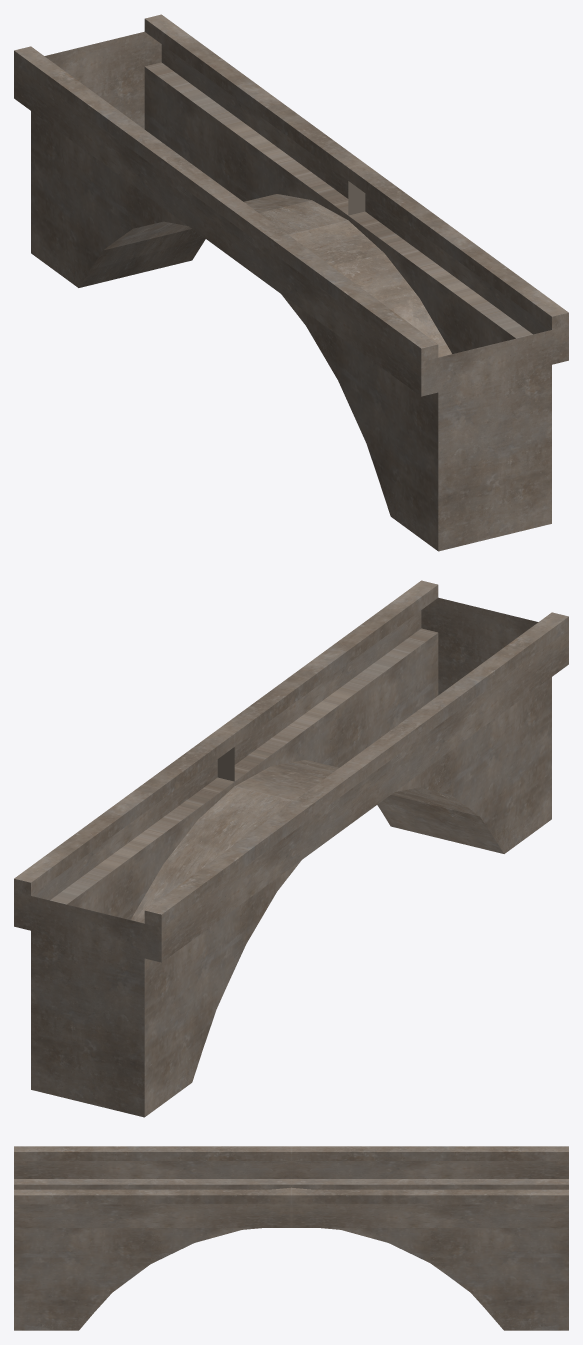
The model's file is Bridge_Base.fbx.
3 views of the same model, one above another, from view 1: azimuth 30°, elevation 25°; view 2: azimuth 150°, elevation 25°; view 3: azimuth 270°, elevation 25° (orthographic). The views are drawn at different scales.
Visible parts, largest first — view 1: Cube.032; view 2: Cube.032; view 3: Cube.032.
Boxes of the visible parts, x1,y1,x2,y2 form: Cube.032: (14,14,568,551); Cube.032: (14,580,568,1117); Cube.032: (14,1146,568,1330).
Bounding box in the file's own units: 2.6 × 3.48 × 12.42.
